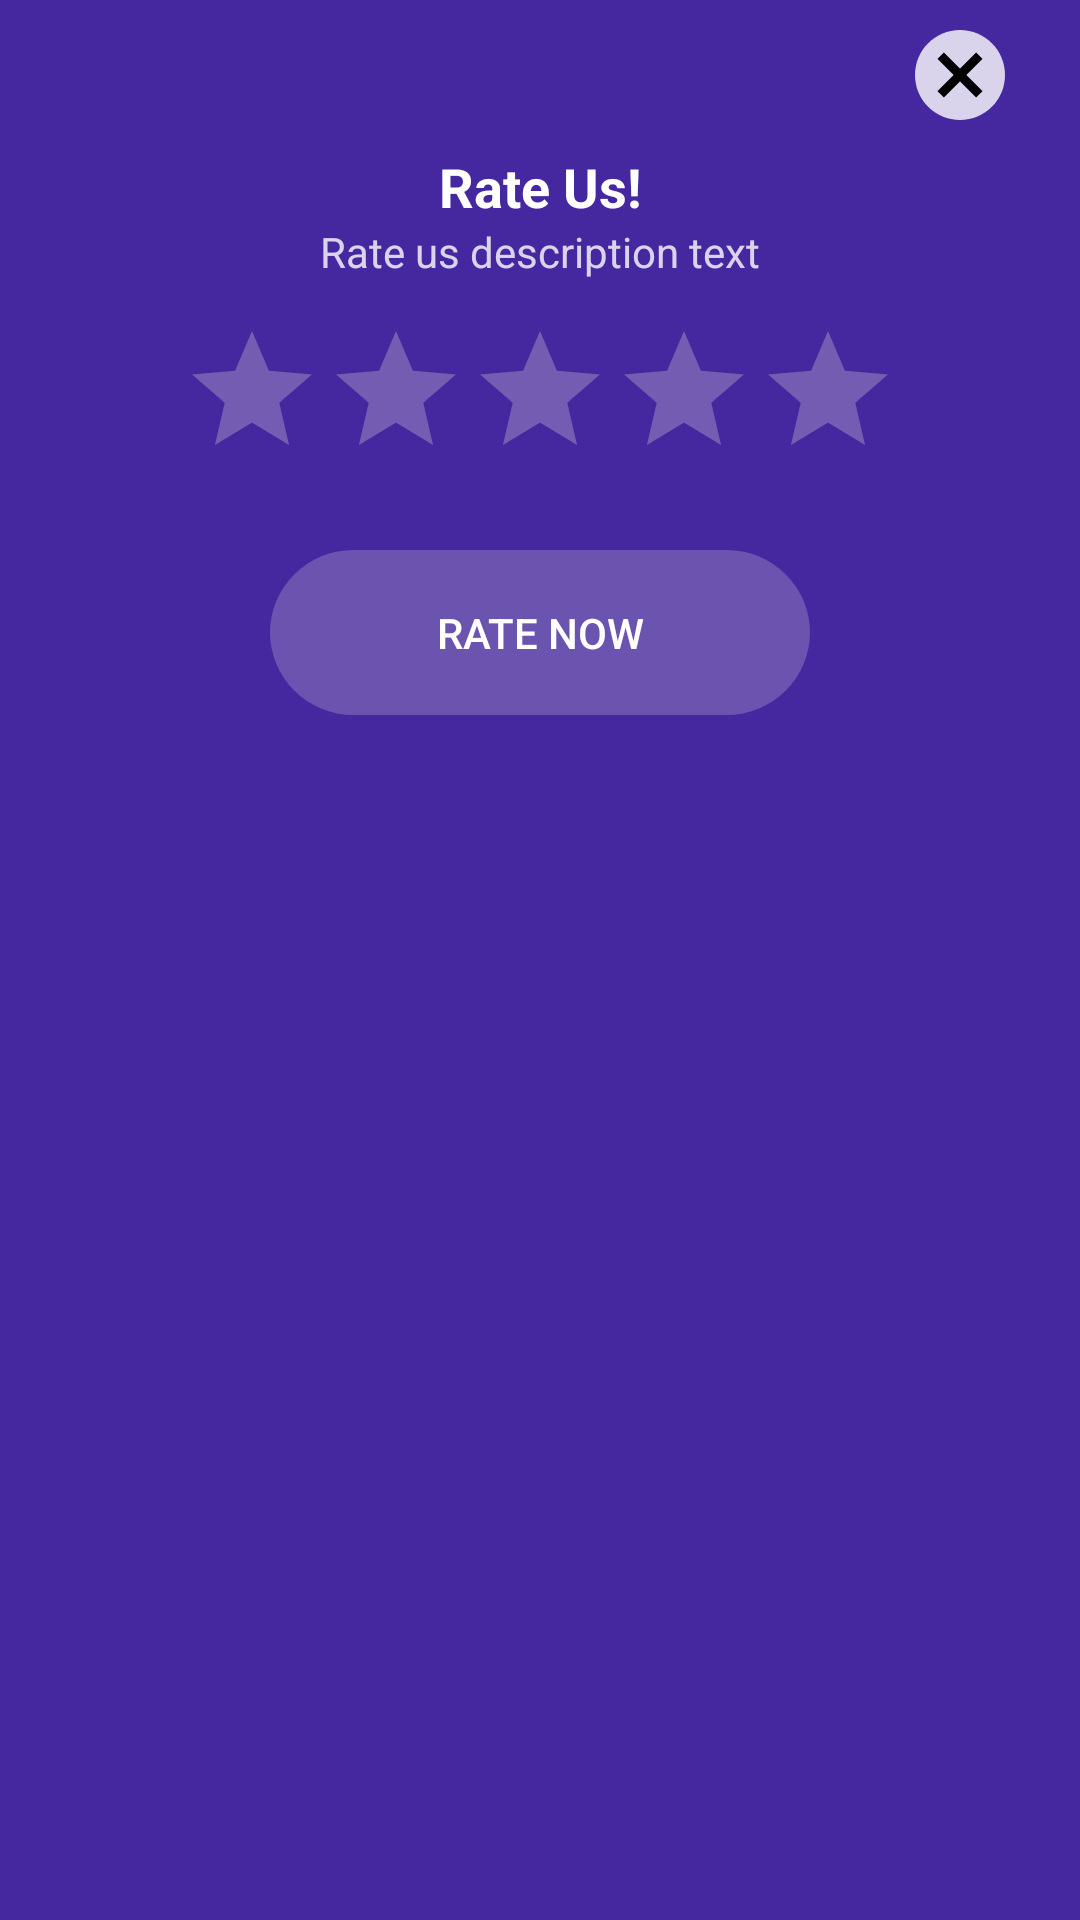

Icons on this 1080px×1920px Android screen, each with its box as (left=x1, top=y1, right=x2, bottom=y2):
admob close circle cross: (left=915, top=30, right=1005, bottom=120)
